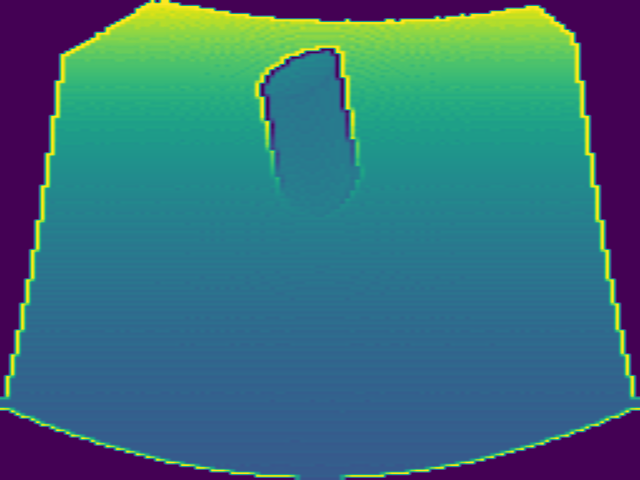cylinder: (257, 47, 360, 217)
